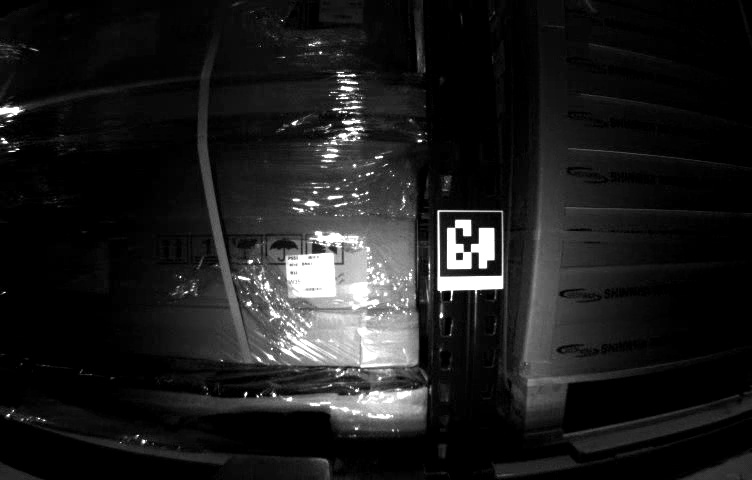True Barcode: (284, 254, 337, 298)
